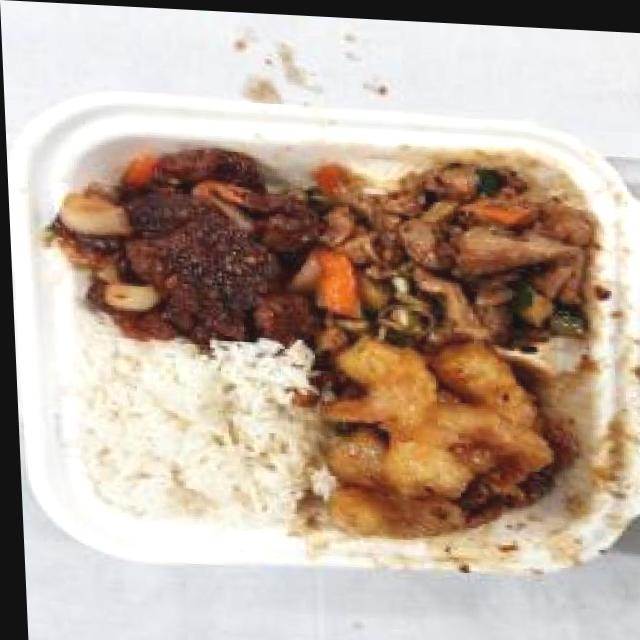Beijing Beef: (50, 132, 325, 346)
Honey Walnut Shrimp: (304, 325, 561, 545)
Kung Pao Chicken: (305, 150, 612, 355)
White Steamed Rice: (70, 337, 306, 525)
